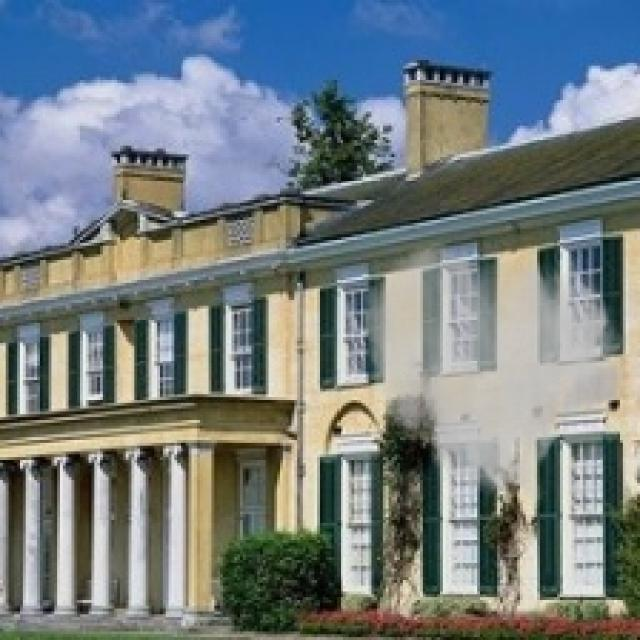Smoke: (357, 240, 629, 506)
